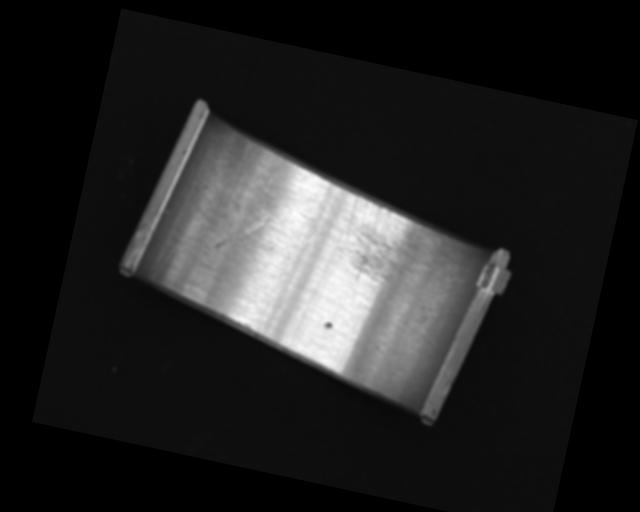bruise: (321, 320, 334, 330)
nick: (256, 226, 318, 343), (150, 202, 206, 291), (214, 208, 267, 258), (259, 165, 282, 220)
scratch: (327, 193, 453, 298)
